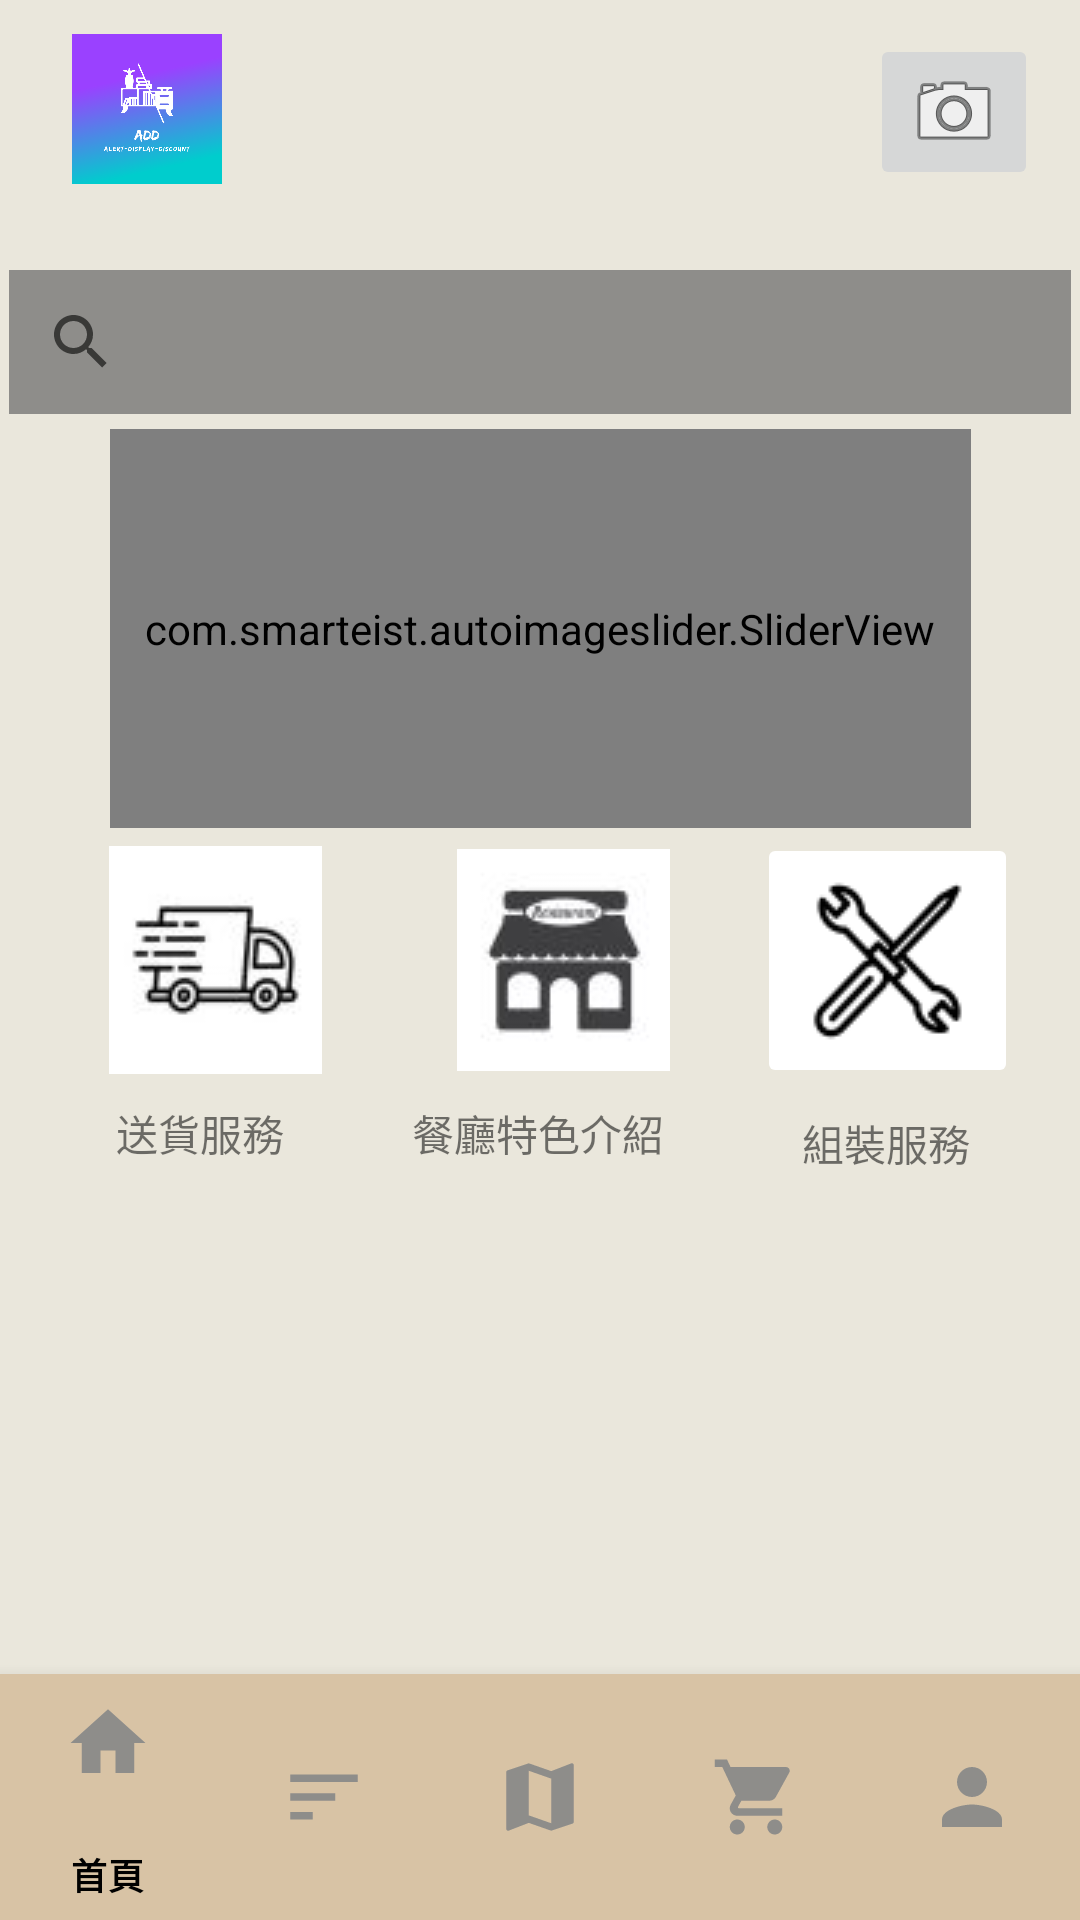

Icon click points for this 1080 × 1920 phone screenshot, format [x,y]:
camera: [954,112]
